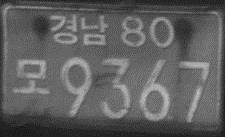0: (149, 16, 175, 49)
3: (98, 57, 131, 121)
6: (137, 57, 172, 123)
7: (177, 59, 211, 125)
8: (120, 14, 146, 48)
9: (59, 56, 93, 119)
경남_O: (47, 14, 110, 46)
모: (10, 58, 52, 97)
